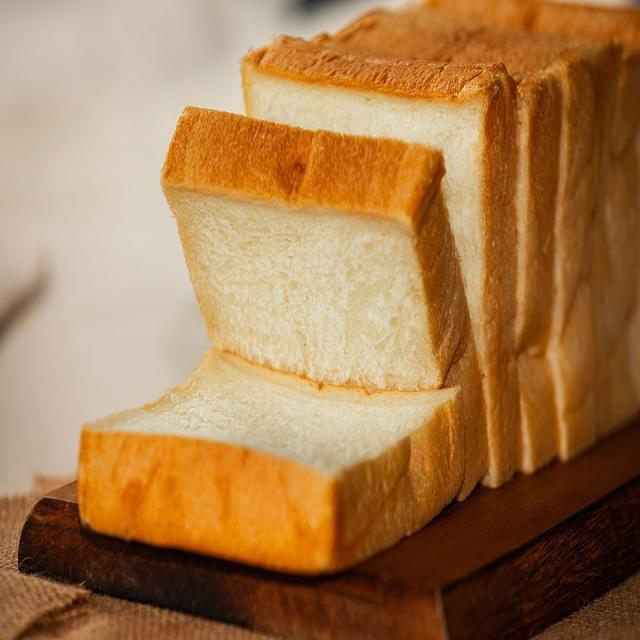Bread: (241, 38, 520, 488), (78, 347, 464, 573), (161, 107, 468, 390)
